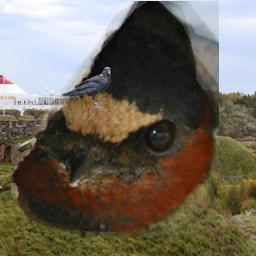Crow: (62, 67, 111, 111)
Swallow: (11, 1, 219, 238)
